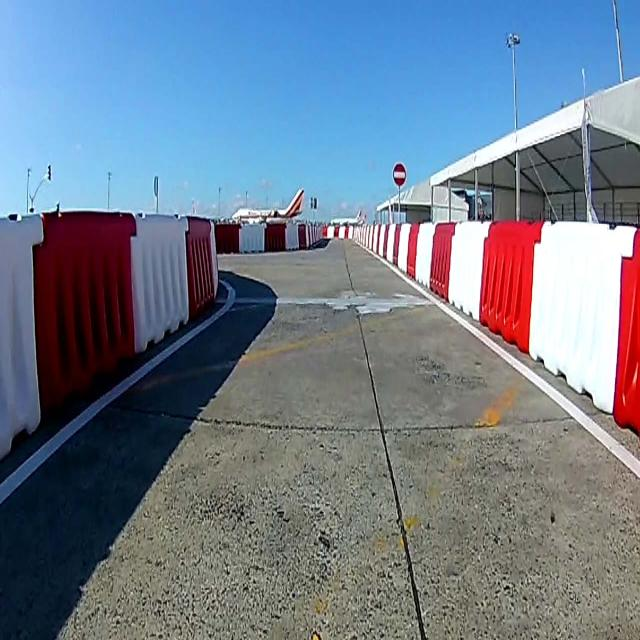girisyok: (392, 164, 406, 187)
